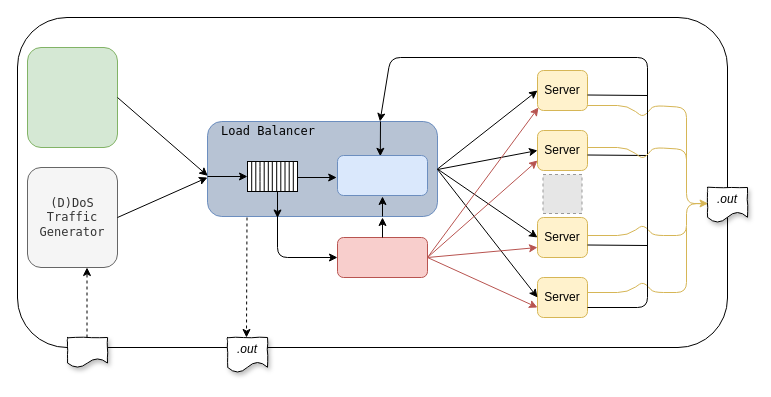
Image size: 771x397. Some labels were removed from this diagram. Grey dashed boxes stand in for pictures. Each missing label, with the centre of its shape:
".ev" goes at (88,353).
"AutoScaler" goes at (382,257).
"Dispatcher" goes at (382,175).
"Normal Traffic Generator" goes at (72,97).
